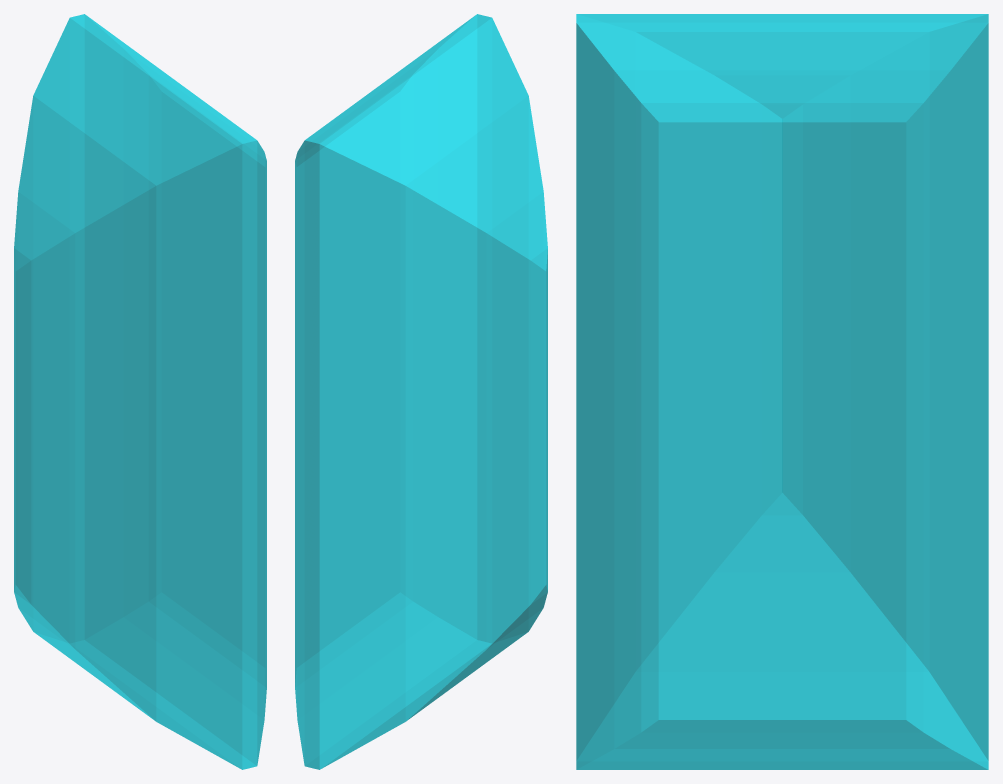
File: baguette aquamarine.glb
The picture shows the model from 3 angles, left to right: view 1: azimuth 30°, elevation 25°; view 2: azimuth 150°, elevation 25°; view 3: azimuth 270°, elevation 25°; orthographic projection. The views are drawn at different scales.
Parts seen in each view (by area): view 1: uploads_files_895467_baguette; view 2: uploads_files_895467_baguette; view 3: uploads_files_895467_baguette.
Boxes of the visible parts, x1,y1,x2,y2 form: uploads_files_895467_baguette: (14,14,266,769); uploads_files_895467_baguette: (295,14,547,769); uploads_files_895467_baguette: (576,14,988,769).
Bounding box in the file's own units: 0.6654 × 2.01 × 1.01.
